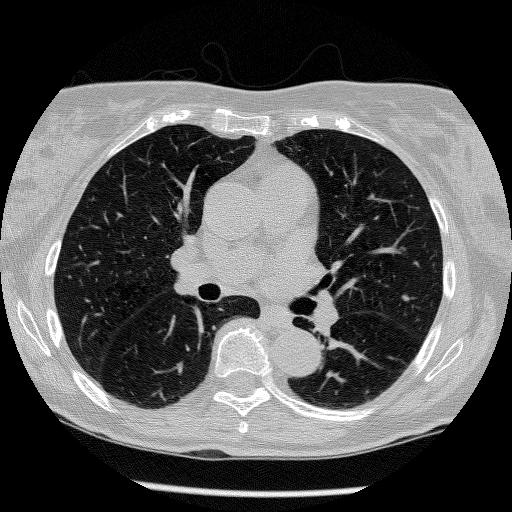nodule: (400, 292, 412, 304)
